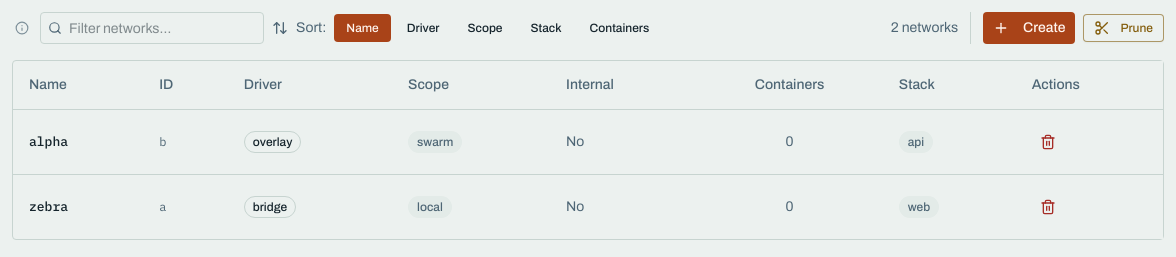
NetworksTab — filtering and sorting › switches the count display while filtering
The image size is (1176, 257).
In the field with placeholder "Filter networks…": (152, 28) [40,12,264,44], type "alpha"
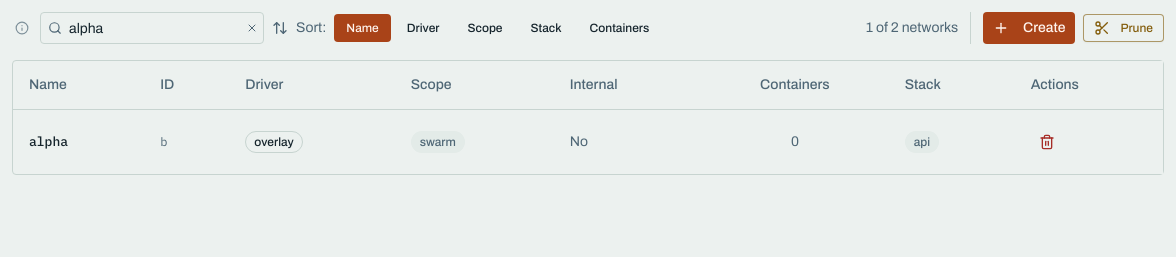
Check: the text "1 of 2 networks" is shown, box [866,18,958,38]
